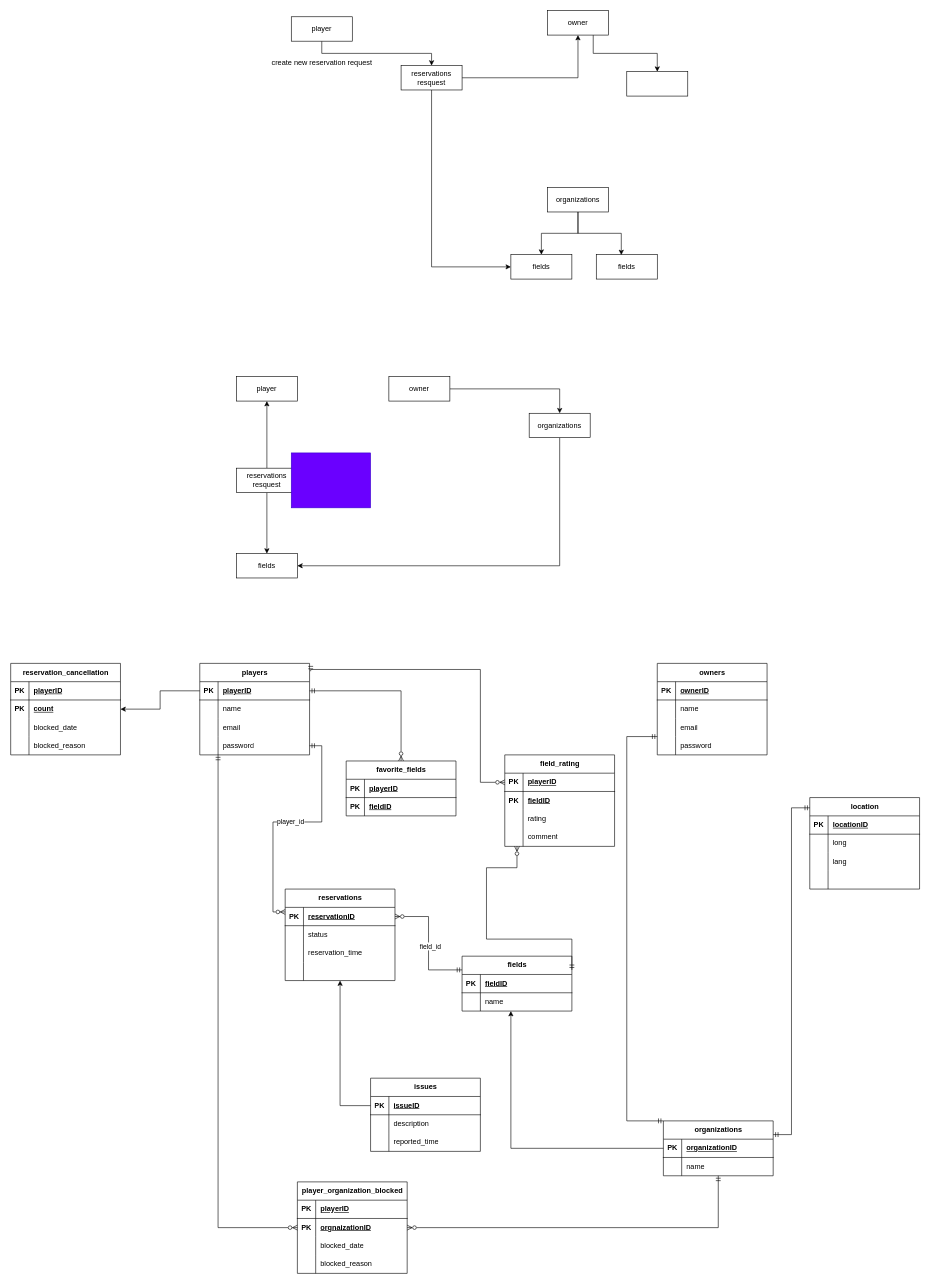
The diagram is 930 pixels wide and 1284 high, and some of its shapes have lost their labels. The shapes that lost their labels are listed below. From the top down, each one's centre as x and y in pixels, then its label:
the point at 657,83: reservation approval
the point at 331,480: Reservation status - Initiated - Approved - Rejected - Cancelled
